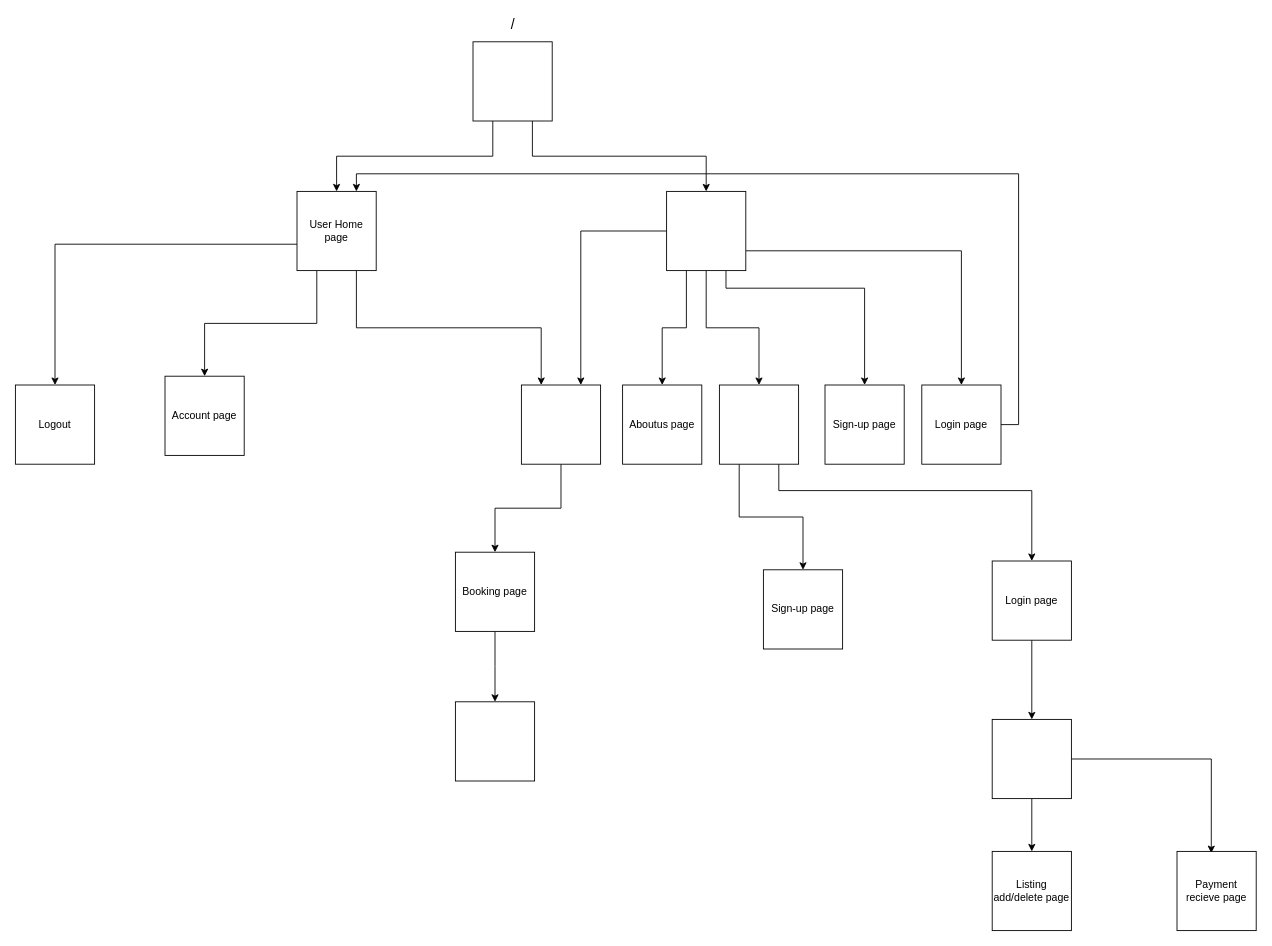
The diagram is 1272 pixels wide and 946 high, and some of its shapes have lost their labels. Each missing label, with the centre of its shape:
Business account page: the point at 1031,759
Business page: the point at 759,424
Home page: the point at 706,231
index/deciding page: the point at 512,81
Payment page: the point at 495,741
Search page: the point at 561,424
